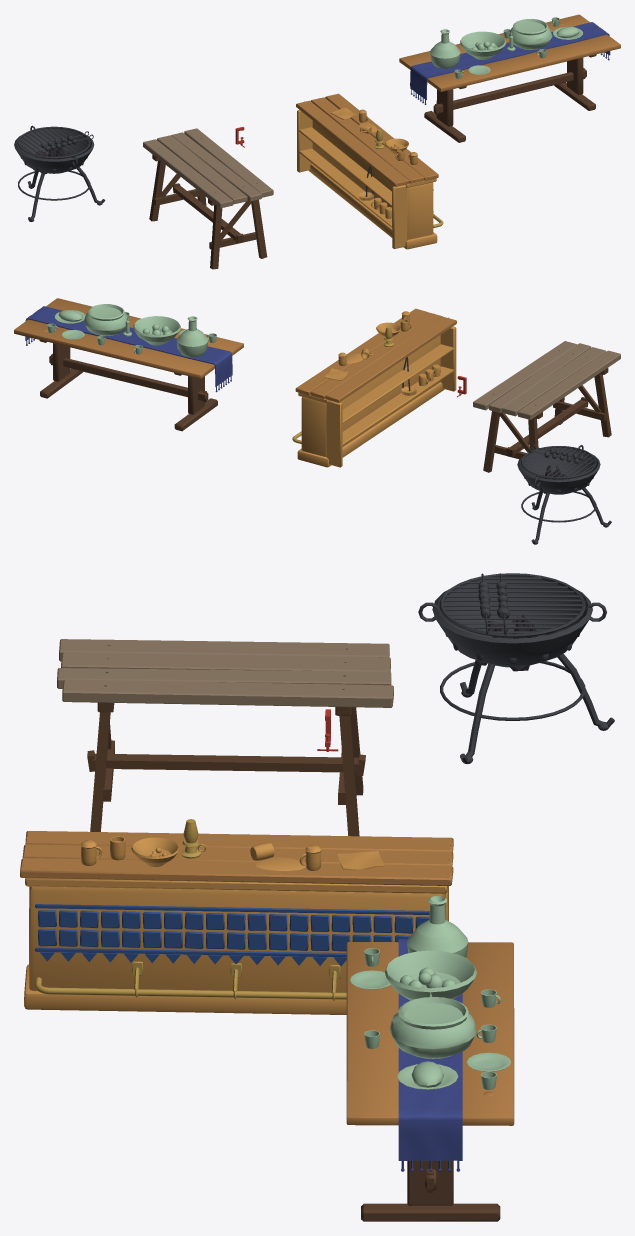
Rendered from nomad_kitchen_decor.fbx.
3 views of the same model, one above another, from view 1: azimuth 30°, elevation 25°; view 2: azimuth 150°, elevation 25°; view 3: azimuth 270°, elevation 25° (orthographic). The views are drawn at different scales.
Parts seen in each view (by area): view 1: C__BarCounter__01, C__Table_Dining__02, C__Worktable_Wood__01, C__GrillBrazier__01; view 2: C__BarCounter__01, C__Table_Dining__02, C__Worktable_Wood__01, C__GrillBrazier__01; view 3: C__BarCounter__01, C__Table_Dining__02, C__Worktable_Wood__01, C__GrillBrazier__01.
Part boxes in pixels (bbox=[...]): C__BarCounter__01: bbox=[296, 93, 443, 249]; C__Table_Dining__02: bbox=[399, 14, 620, 142]; C__Worktable_Wood__01: bbox=[143, 127, 273, 269]; C__GrillBrazier__01: bbox=[14, 125, 373, 221]; C__BarCounter__01: bbox=[292, 308, 456, 467]; C__Table_Dining__02: bbox=[14, 298, 243, 431]; C__Worktable_Wood__01: bbox=[457, 341, 620, 472]; C__GrillBrazier__01: bbox=[402, 357, 611, 544]; C__BarCounter__01: bbox=[20, 819, 453, 1014]; C__Table_Dining__02: bbox=[346, 896, 514, 1221]; C__Worktable_Wood__01: bbox=[57, 639, 393, 836]; C__GrillBrazier__01: bbox=[418, 573, 614, 764].
Bounding box in the file's own units: 1340 × 249 × 610.
